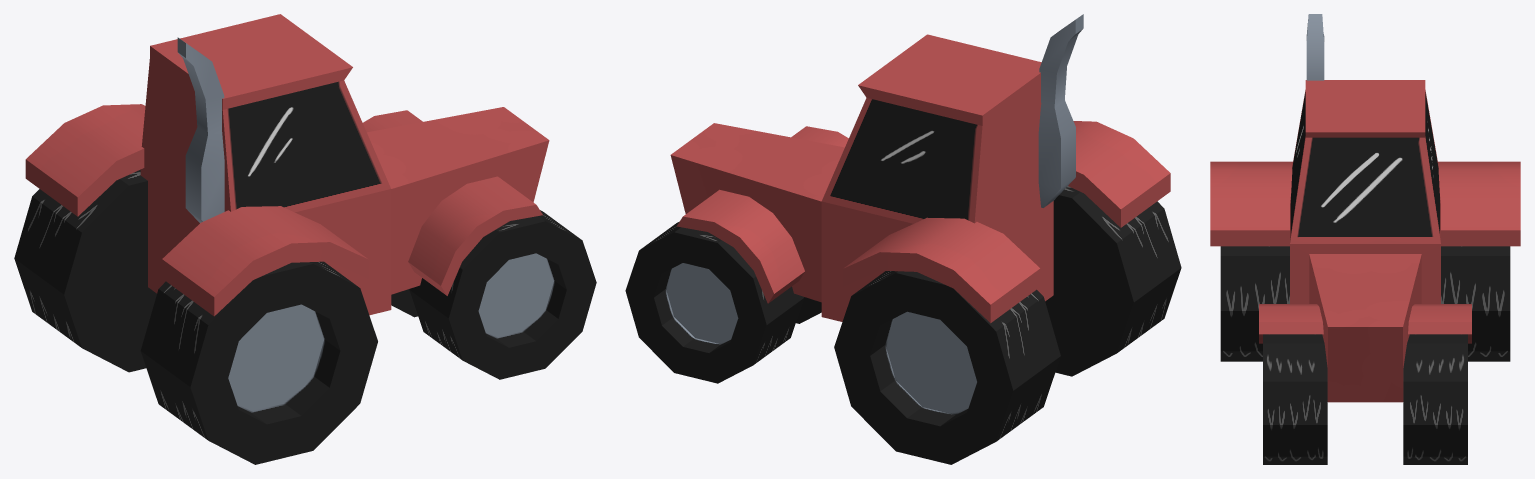
The model's file is Tractor.fbx.
The picture shows the model from 3 angles, left to right: view 1: azimuth 30°, elevation 25°; view 2: azimuth 150°, elevation 25°; view 3: azimuth 270°, elevation 25°; orthographic projection. The views are drawn at different scales.
Visible parts, largest first — view 1: Tractor, pCylinder1, pCube13, pCylinder2, pCube14, tubo_de_escape; view 2: Tractor, pCylinder1, pCylinder2, pCube13, pCube14, tubo_de_escape; view 3: Tractor, pCylinder2, pCube13, pCylinder1, pCube14, tubo_de_escape.
Boxes of the visible parts, x1,y1,x2,y2 form: Tractor: (140,14,549,315); pCylinder1: (14,169,377,464); pCube13: (25,104,368,316); pCylinder2: (391,210,596,379); pCube14: (363,110,542,295); tubo_de_escape: (177,37,224,222); Tractor: (670,34,1053,321); pCylinder1: (834,186,1181,464); pCylinder2: (625,221,821,383); pCube13: (843,121,1170,323); pCube14: (676,126,848,303); tubo_de_escape: (1038,14,1083,207); Tractor: (1290,80,1440,402); pCylinder2: (1263,334,1467,464); pCube13: (1210,161,1520,246); pCylinder1: (1220,246,1510,361); pCube14: (1259,304,1471,343); tubo_de_escape: (1306,14,1324,80).
Size of the model in its own units: 23.3 by 19.92 by 17.61.
